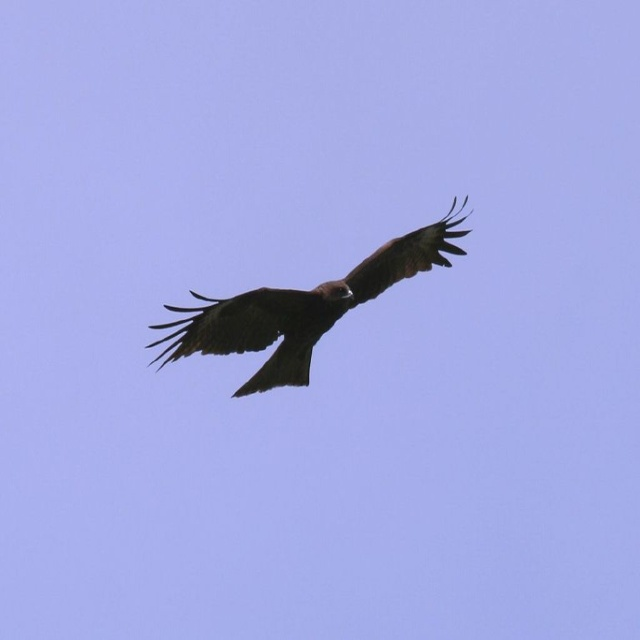Eagle: (144, 195, 474, 399)
